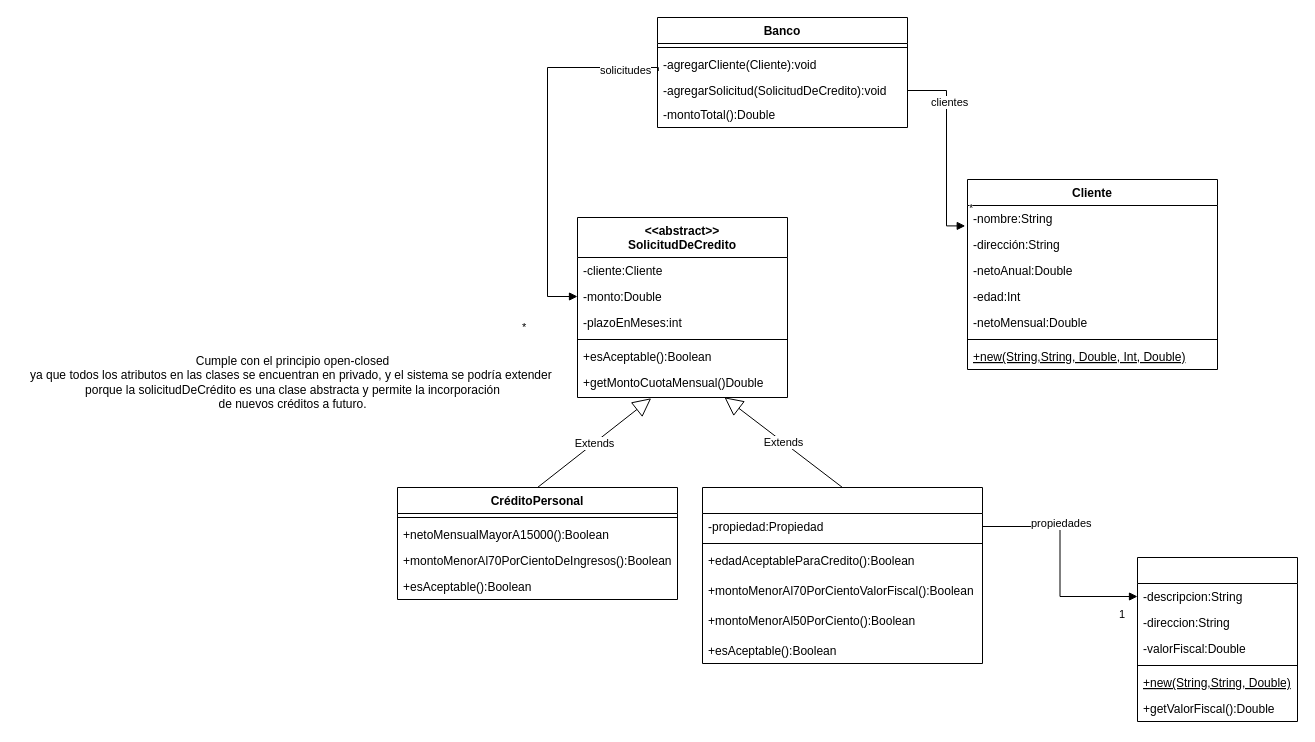
The diagram is 1315 pixels wide and 742 high, and some of its shapes have lost their labels. Here are the shapes that lost their labels. From the top down, the box of each, then its label:
(702, 486, 982, 664): CréditoHipotecario
(1136, 556, 1298, 722): Propiedad
